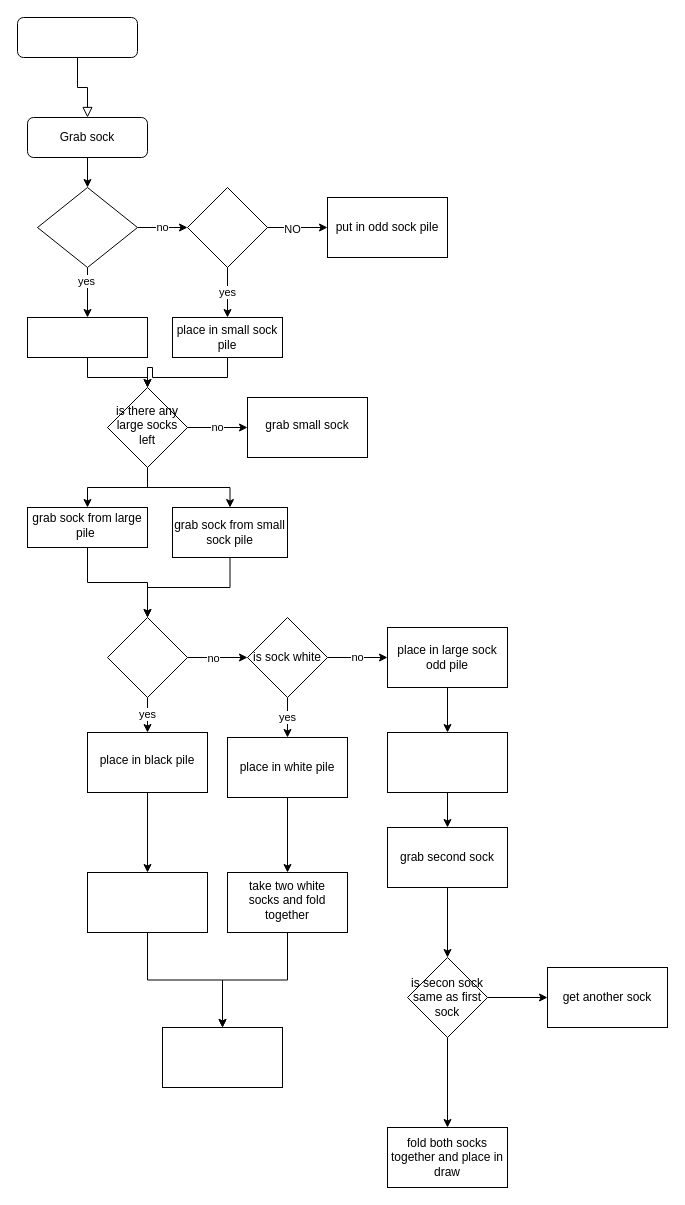
This 685x1205 diagram has some shape labels left out. Here are the shapes that lost their labels. From the top down, the box of each, then its label:
(16, 16, 138, 58): START
(36, 186, 138, 268): Is sock large size
(186, 186, 268, 268): Is sock small
(26, 316, 148, 358): place in large sock pile
(106, 616, 188, 698): is sock black
(386, 732, 508, 792): grab sock from odd pile
(86, 872, 208, 932): take two black socks and fold together
(162, 1026, 282, 1088): PLACE IN DRAW
